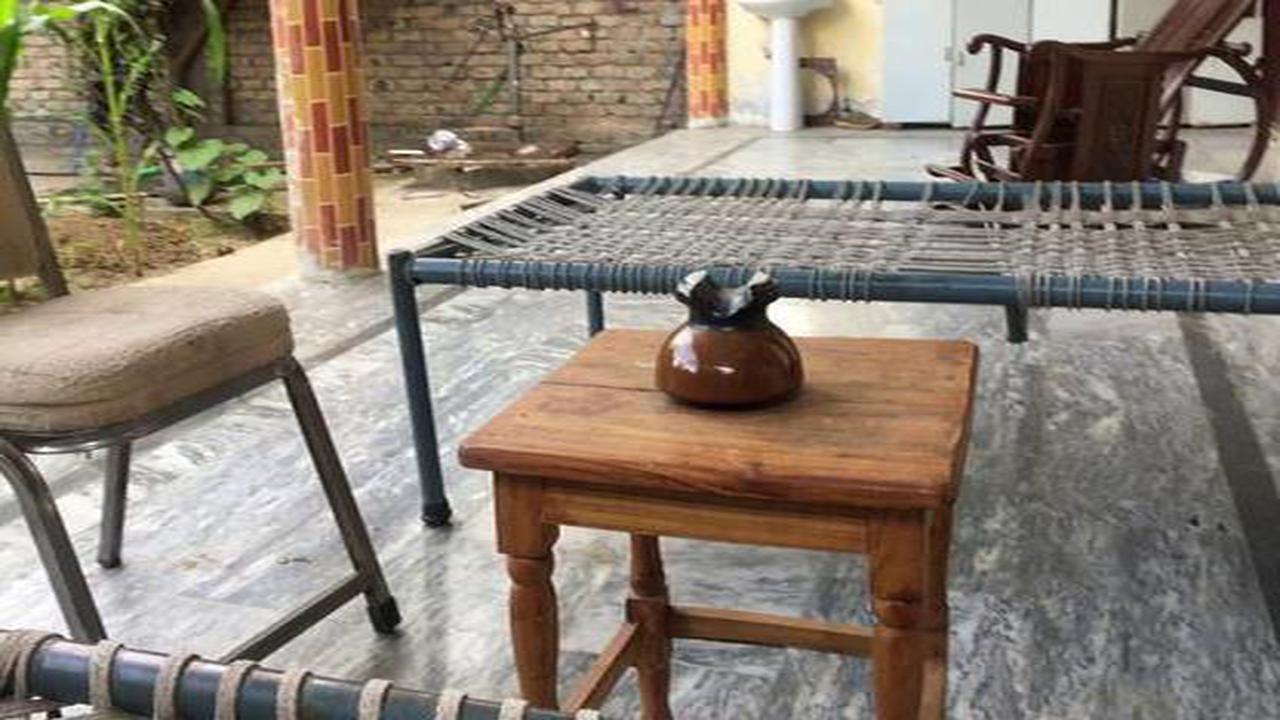insulator_pin: (634, 250, 822, 423)
